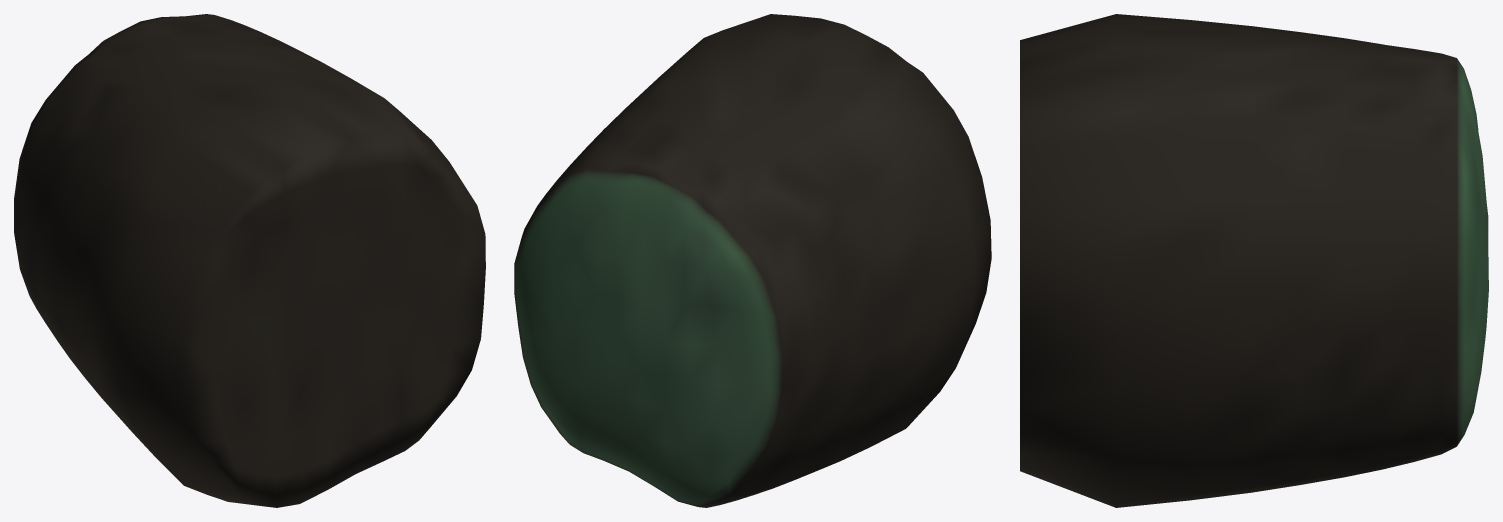
The model's file is GreenHillHuge.003.glb.
The picture shows the model from 3 angles, left to right: view 1: azimuth 30°, elevation 25°; view 2: azimuth 150°, elevation 25°; view 3: azimuth 270°, elevation 25°; orthographic projection. The views are drawn at different scales.
Visible parts, largest first — view 1: GreenHillHuge.003; view 2: GreenHillHuge.003; view 3: GreenHillHuge.003.
Part boxes in pixels (left/top/right/bottom): GreenHillHuge.003: left=14, top=14, right=485, bottom=507; GreenHillHuge.003: left=514, top=14, right=991, bottom=507; GreenHillHuge.003: left=1020, top=14, right=1488, bottom=507.
Bounding box in the file's own units: 2372 × 2516 × 2372.
